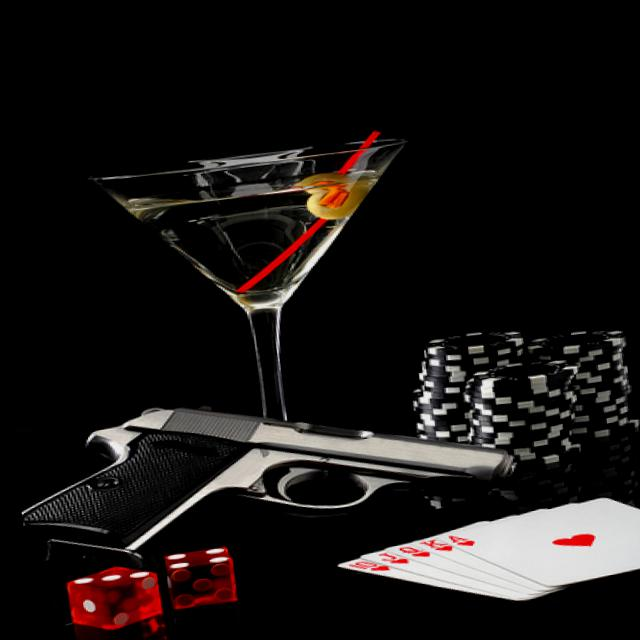handgun: (18, 362, 522, 582)
